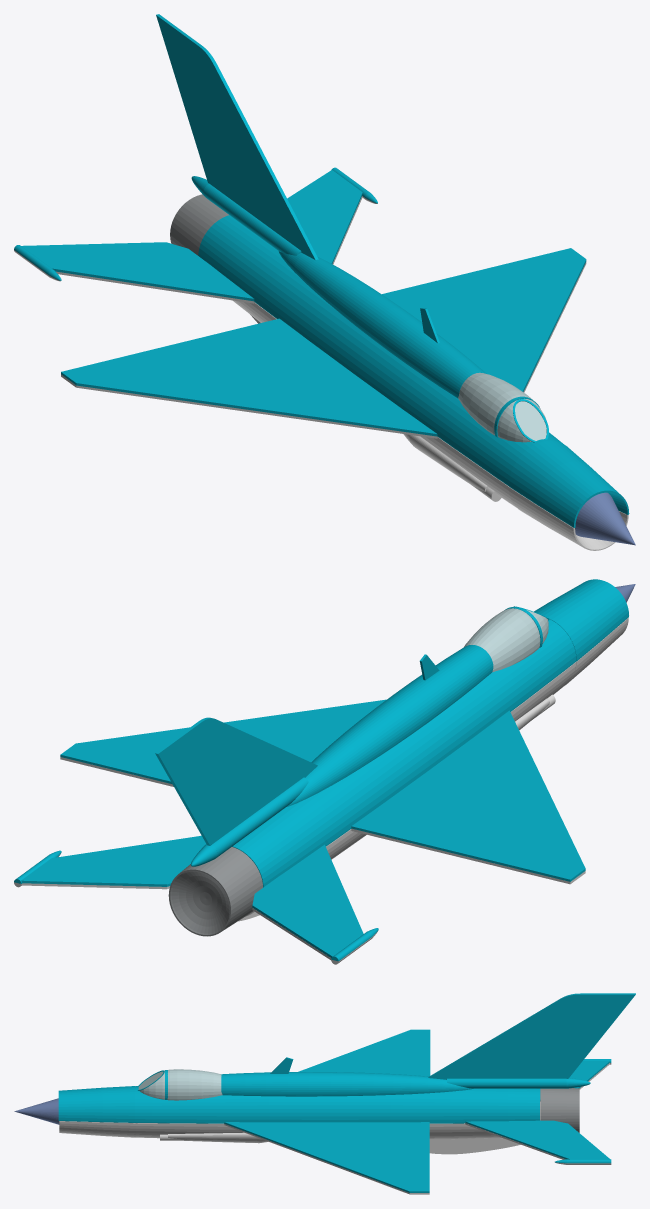
File: mig21_blue.glb
3 views of the same model, one above another, from view 1: azimuth 30°, elevation 25°; view 2: azimuth 150°, elevation 25°; view 3: azimuth 270°, elevation 25° (orthographic). The views are drawn at different scales.
Visible parts, largest first — view 1: Mesh_Mesh_head_geo.001_lambert2SG.001; view 2: Mesh_Mesh_head_geo.001_lambert2SG.001; view 3: Mesh_Mesh_head_geo.001_lambert2SG.001.
Part boxes in pixels (x1,y1,x2,y2): Mesh_Mesh_head_geo.001_lambert2SG.001: (14, 14, 635, 550); Mesh_Mesh_head_geo.001_lambert2SG.001: (14, 579, 635, 964); Mesh_Mesh_head_geo.001_lambert2SG.001: (14, 993, 635, 1194).
Size of the model in its own units: 0.1079 by 0.0497 by 0.1754.
